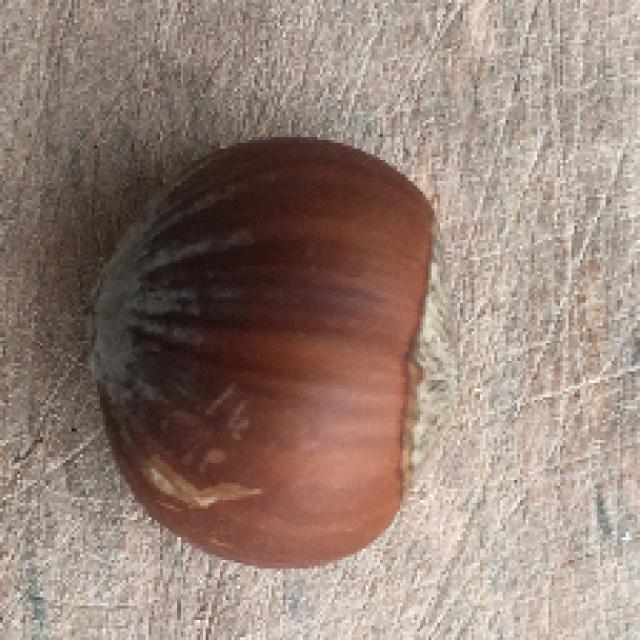qualityHazelnut: (65, 134, 490, 554)
